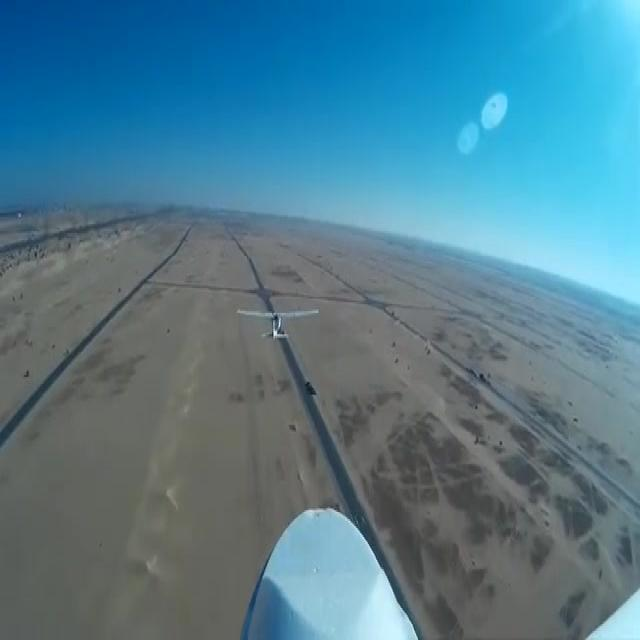iha: (268, 306, 287, 341)
